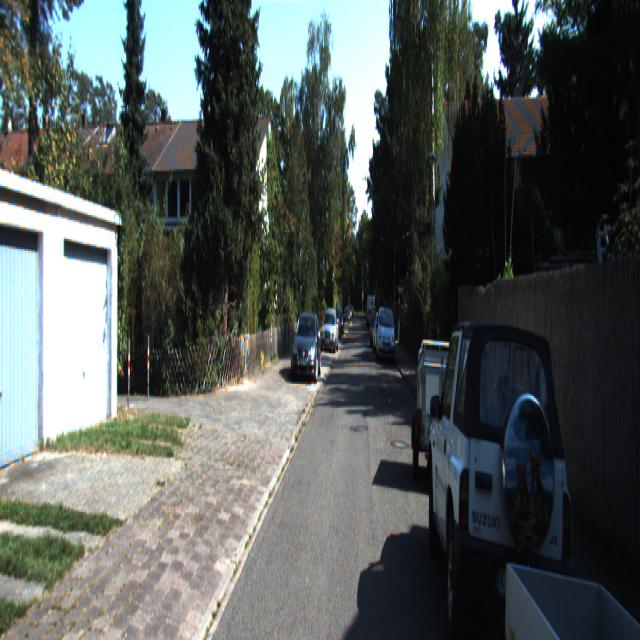Car: (428, 314, 578, 638), (506, 553, 640, 638), (414, 333, 464, 493), (290, 308, 320, 381), (377, 306, 396, 364), (321, 307, 339, 350)
